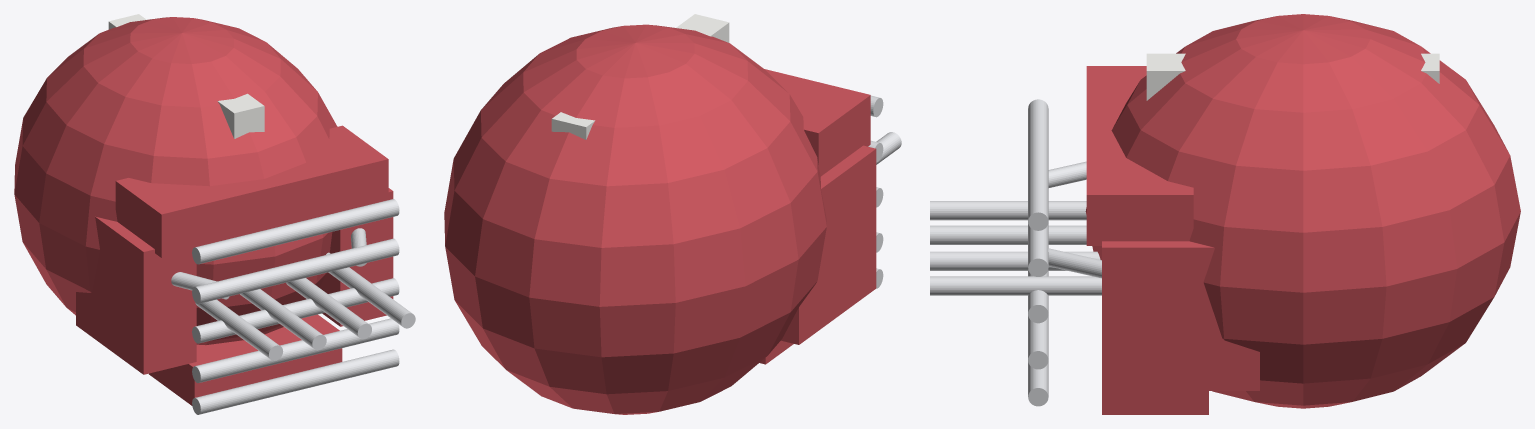
Rendered from FootballHelmet.glb.
The picture shows the model from 3 angles, left to right: view 1: azimuth 30°, elevation 25°; view 2: azimuth 150°, elevation 25°; view 3: azimuth 270°, elevation 25°; orthographic projection. The views are drawn at different scales.
Parts seen in each view (by area): view 1: Helmet_Dome, Helmet_Brow, Helmet_Cheek_L, Helmet_Chin, Facemask_H_4, Facemask_H_1, Facemask_H_0, Facemask_H_3, Helmet_Cheek_R, Facemask_H_2, Helmet_Stripe, Facemask_V_3 (+4 smaller); view 2: Helmet_Dome, Helmet_Cheek_L, Helmet_Brow, Helmet_Stripe, Facemask_V_0; view 3: Helmet_Dome, Helmet_Cheek_R, Helmet_Brow, Facemask_V_3, Facemask_V_1, Facemask_V_0, Facemask_H_0, Helmet_Chin, Facemask_V_2, Helmet_Stripe, Facemask_Rail_R, Facemask_H_3 (+4 smaller).
Part boxes in pixels (x1=…): Helmet_Dome: x1=14, y1=17, x2=337, y2=345; Helmet_Brow: x1=115, y1=125, x2=388, y2=257; Helmet_Cheek_L: x1=76, y1=216, x2=196, y2=374; Helmet_Chin: x1=149, y1=314, x2=342, y2=405; Facemask_H_4: x1=192, y1=349, x2=399, y2=414; Facemask_H_1: x1=192, y1=238, x2=399, y2=303; Facemask_H_0: x1=192, y1=199, x2=399, y2=264; Facemask_H_3: x1=192, y1=318, x2=399, y2=383; Helmet_Cheek_R: x1=320, y1=188, x2=393, y2=326; Facemask_H_2: x1=192, y1=278, x2=399, y2=343; Helmet_Stripe: x1=108, y1=14, x2=264, y2=138; Facemask_V_3: x1=326, y1=252, x2=415, y2=328; Helmet_Dome: x1=444, y1=24, x2=826, y2=414; Helmet_Cheek_L: x1=781, y1=145, x2=876, y2=344; Helmet_Brow: x1=764, y1=69, x2=870, y2=176; Helmet_Stripe: x1=551, y1=14, x2=729, y2=139; Facemask_V_0: x1=876, y1=132, x2=901, y2=164; Helmet_Dome: x1=1085, y1=14, x2=1520, y2=408; Helmet_Cheek_R: x1=1102, y1=241, x2=1259, y2=390; Helmet_Brow: x1=1086, y1=66, x2=1193, y2=245; Facemask_V_3: x1=930, y1=276, x2=1101, y2=295; Facemask_V_1: x1=930, y1=225, x2=1086, y2=244; Facemask_V_0: x1=930, y1=201, x2=1086, y2=220; Facemask_H_0: x1=1028, y1=99, x2=1048, y2=230; Helmet_Chin: x1=1102, y1=391, x2=1208, y2=414; Facemask_V_2: x1=930, y1=251, x2=1100, y2=270; Helmet_Stripe: x1=1146, y1=53, x2=1439, y2=100; Facemask_Rail_R: x1=1048, y1=248, x2=1101, y2=278; Facemask_H_3: x1=1028, y1=314, x2=1048, y2=369.
Size of the model in its own units: 1.51 by 1.57 by 2.32.
